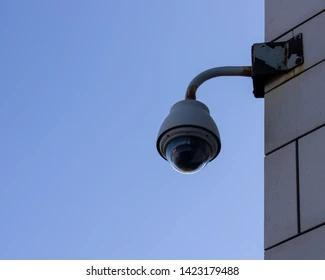360-Cam: (152, 95, 233, 181)
